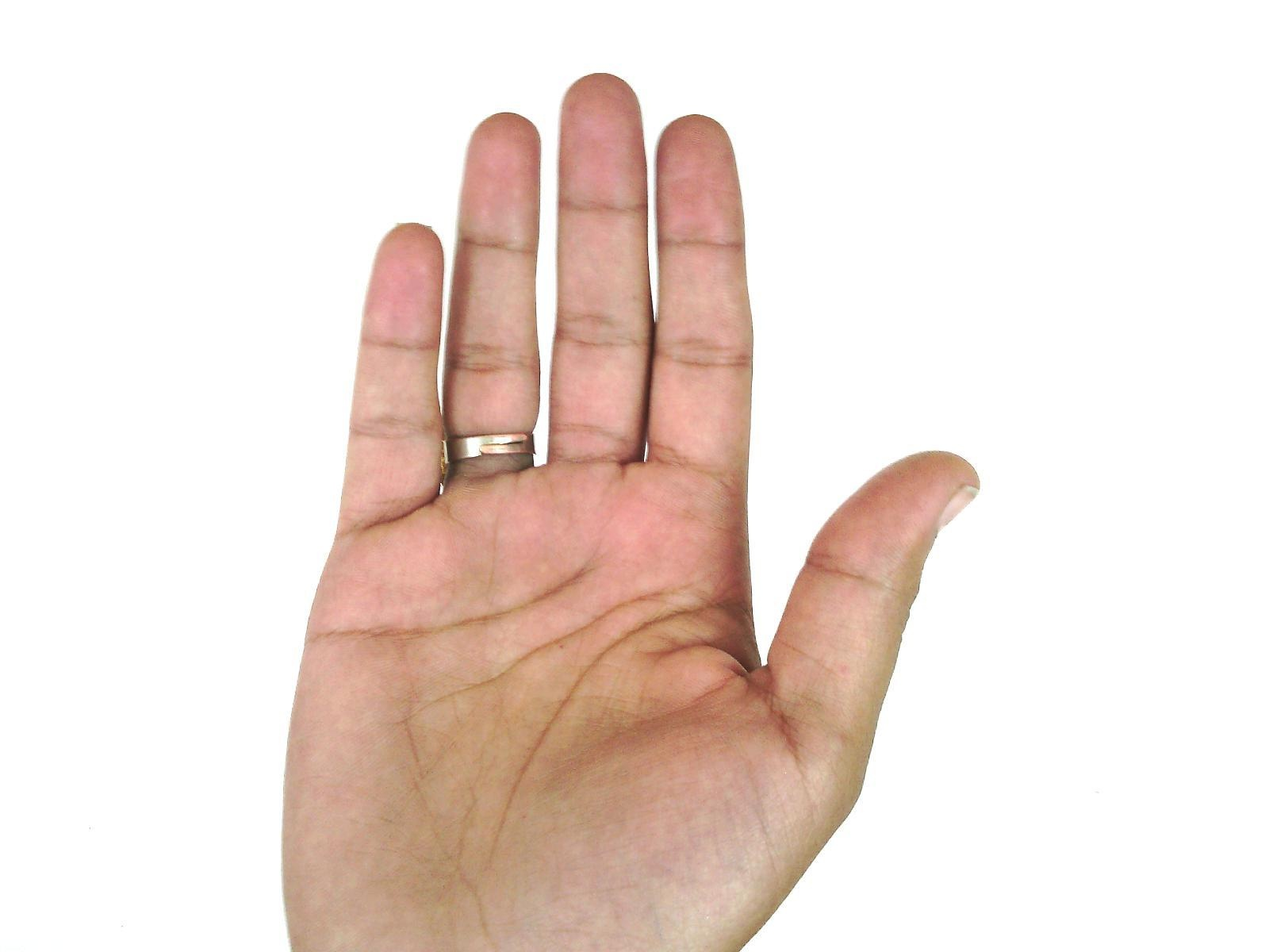open_palm: (277, 71, 983, 951)
